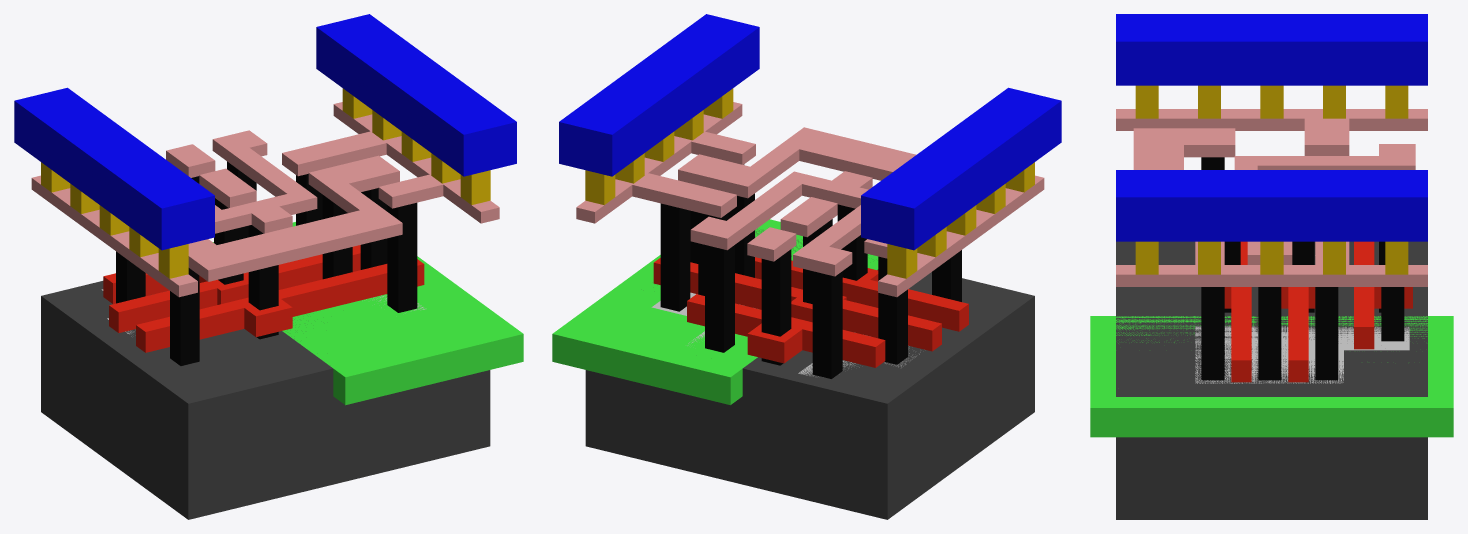
File: sky130_fd_sc_hd__nand2b_1.obj
3 views of the same model, side by side, from view 1: azimuth 30°, elevation 25°; view 2: azimuth 150°, elevation 25°; view 3: azimuth 270°, elevation 25° (orthographic). The views are drawn at different scales.
Visible parts, largest first — view 1: subs, metal1, li, nwell, poly, licon, mcon; view 2: subs, metal1, li, licon, nwell, poly, mcon; view 3: subs, metal1, nwell, li, licon, mcon, poly, tap.
Boxes of the visible parts, left/top/right/bottom form: subs: left=41, top=281, right=490, bottom=519; metal1: left=14, top=14, right=516, bottom=250; li: left=31, top=102, right=499, bottom=297; nwell: left=213, top=222, right=523, bottom=405; poly: left=103, top=245, right=424, bottom=352; licon: left=116, top=161, right=417, bottom=365; mcon: left=41, top=88, right=490, bottom=278; subs: left=585, top=229, right=1034, bottom=519; metal1: left=559, top=14, right=1061, bottom=250; li: left=576, top=102, right=1044, bottom=297; licon: left=660, top=164, right=961, bottom=378; nwell: left=552, top=219, right=878, bottom=405; poly: left=653, top=257, right=968, bottom=367; mcon: left=585, top=88, right=1034, bottom=278; subs: left=1116, top=241, right=1427, bottom=519; metal1: left=1116, top=14, right=1427, bottom=241; nwell: left=1090, top=316, right=1453, bottom=437; li: left=1116, top=109, right=1427, bottom=286; licon: left=1201, top=157, right=1404, bottom=380; mcon: left=1135, top=85, right=1408, bottom=274; poly: left=1224, top=241, right=1412, bottom=382; tap: left=1195, top=326, right=1409, bottom=383.
Bounding box in the file's own units: 3.2 × 2.74 × 2.68.
